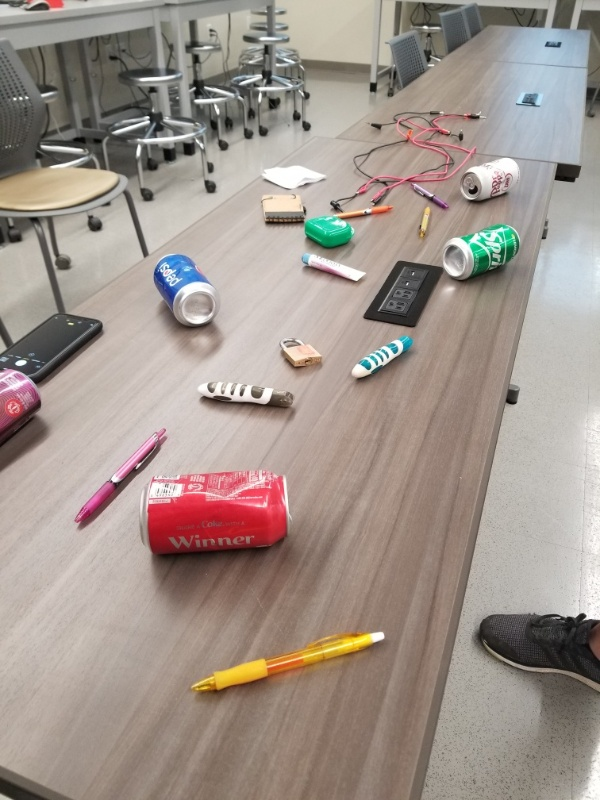can: (132, 464, 301, 565), (148, 251, 223, 335), (437, 218, 528, 283), (1, 362, 47, 463), (455, 150, 529, 206)
